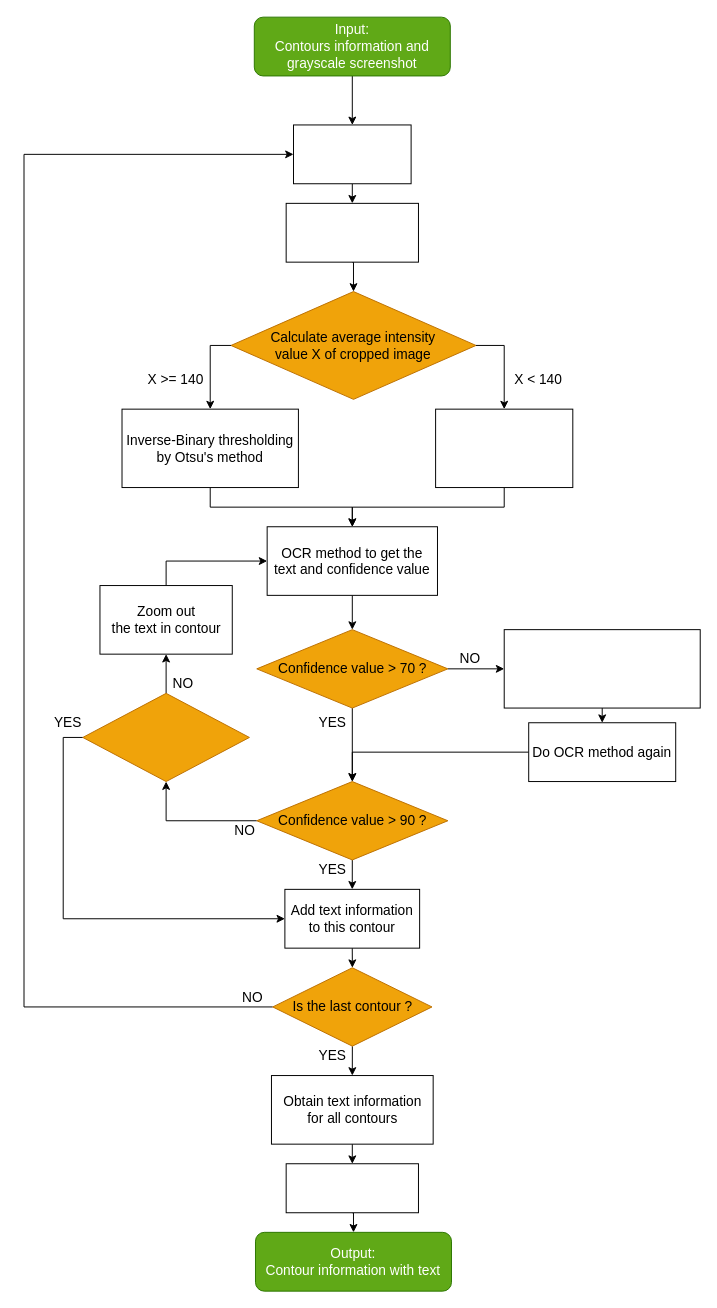
This 717x1308 diagram has some shape labels left out. Here are the shapes that lost their labels. From the top down, the box of each, then its label:
(293, 124, 411, 184): Take one contour at a time
(285, 202, 418, 262): Crop image by contour coordinate
(435, 408, 573, 488): Binary thresholding by Otsu's method
(503, 629, 700, 708): Dilate and Erode respectively then choose the good one
(82, 692, 249, 782): Over 10th round ?
(285, 1163, 418, 1213): Remove abnormal text
